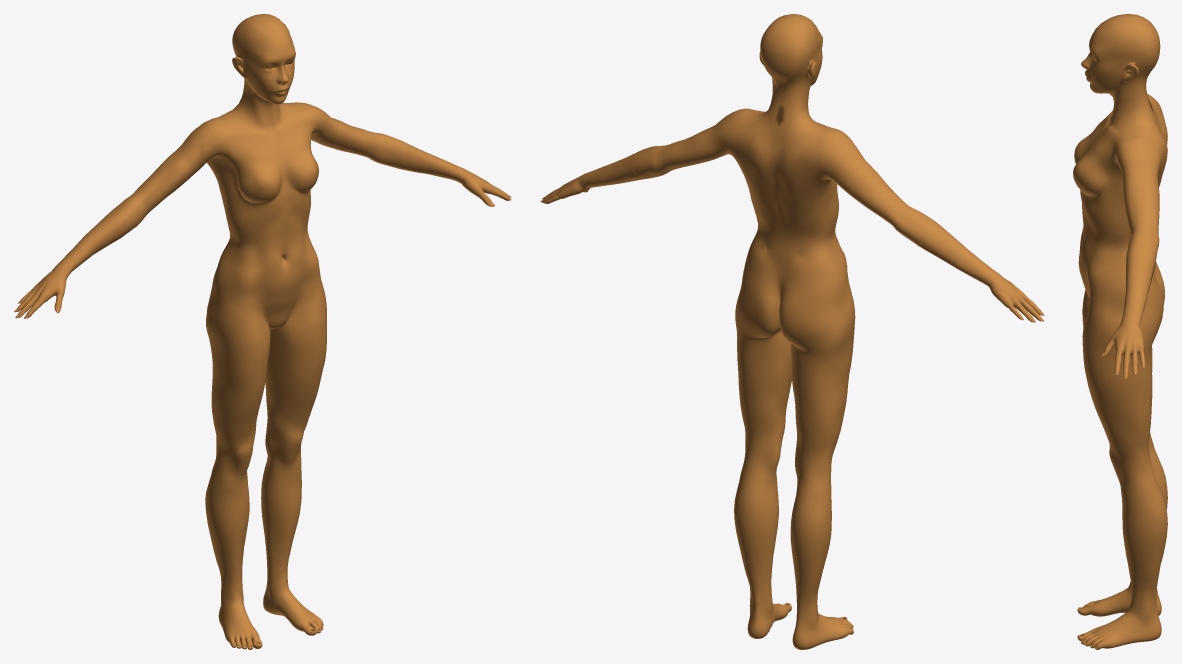
3 views of the same model, side by side, from view 1: azimuth 30°, elevation 25°; view 2: azimuth 150°, elevation 25°; view 3: azimuth 270°, elevation 25° (orthographic).
Parts seen in each view (by area): view 1: Body; view 2: Body; view 3: Body.
Part boxes in pixels (x1,y1,x2,y2): Body: (16,14,511,649); Body: (542,14,1041,649); Body: (1073,14,1167,649).
Size of the model in its own units: 1.58 by 1.85 by 0.2597.
